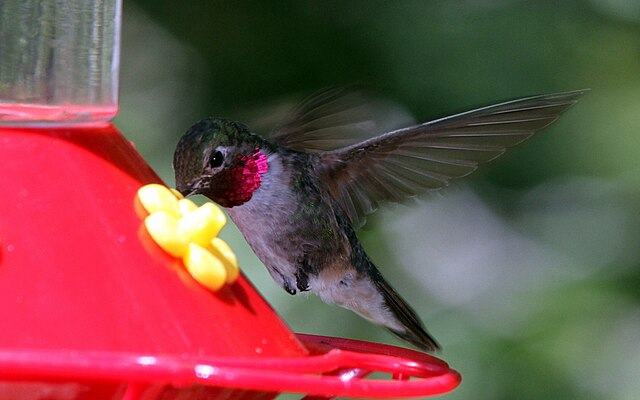selasphorus platycercus: (170, 81, 592, 360)
